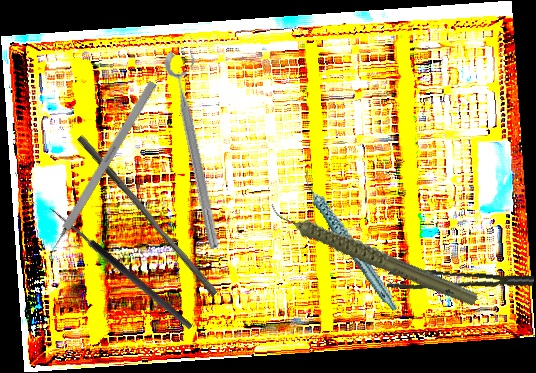Fixation Ring: (161, 46, 237, 251)
Handpiece: (265, 160, 482, 346), (300, 157, 399, 325)
Hook Surgical: (41, 80, 158, 265), (41, 204, 195, 338)
Pusher: (70, 134, 224, 298)
Tissue Forceps: (386, 256, 535, 307)
